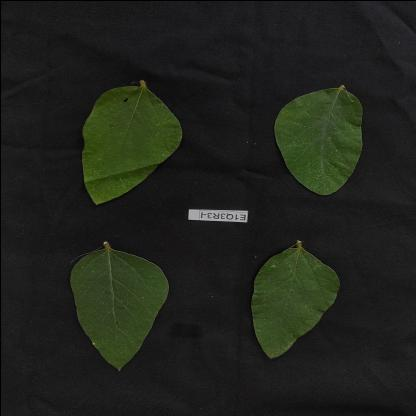label: (172, 204, 254, 230)
leaflets: (50, 246, 180, 379), (56, 63, 180, 192), (264, 75, 378, 209), (244, 240, 346, 364)
